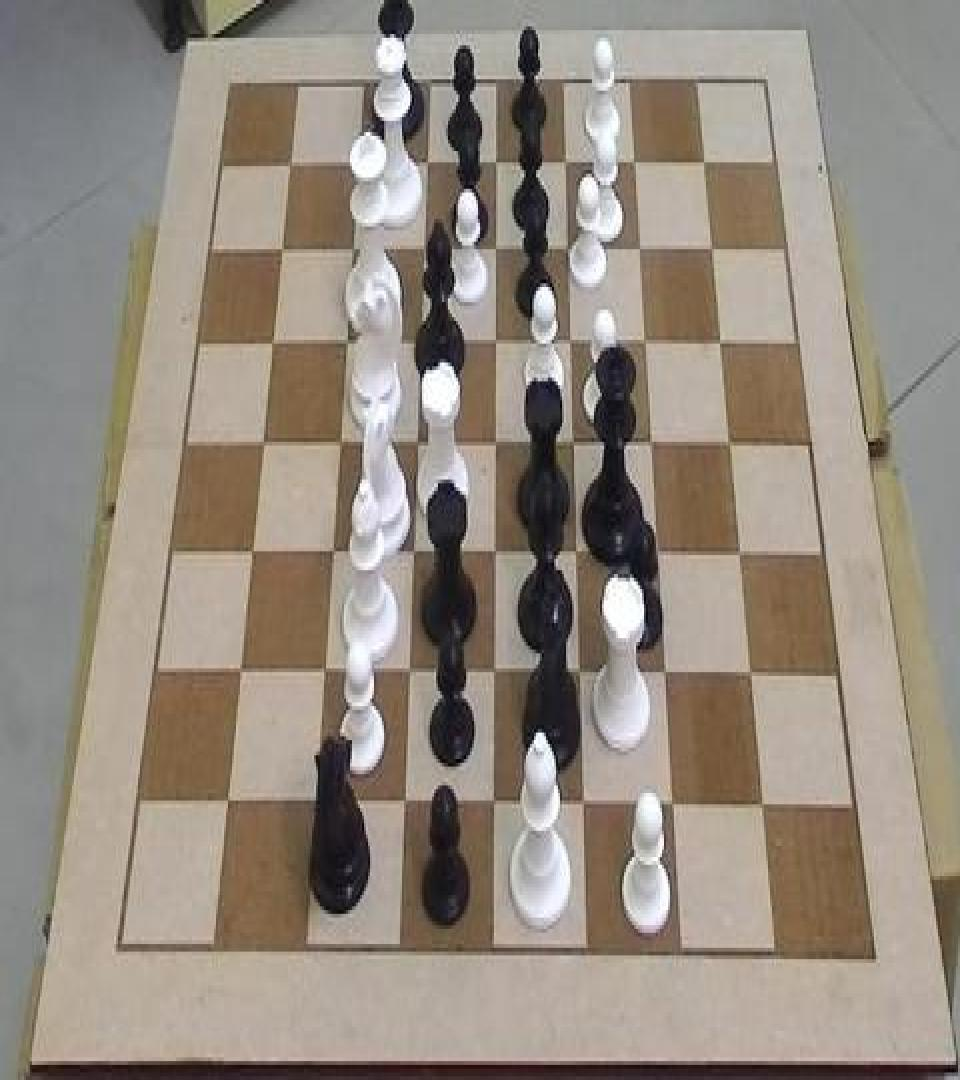xcorner: (692, 142, 712, 180), (622, 142, 642, 180), (553, 144, 573, 182), (484, 144, 504, 182), (415, 144, 435, 182), (346, 146, 366, 184), (278, 146, 298, 184), (700, 228, 720, 266), (628, 228, 648, 266), (556, 228, 576, 266), (484, 228, 504, 266), (412, 228, 432, 266), (341, 230, 361, 268), (270, 230, 290, 268), (709, 321, 729, 359), (634, 321, 654, 359), (558, 321, 578, 359), (483, 321, 503, 359), (409, 321, 429, 359), (335, 321, 355, 359), (261, 322, 281, 360), (719, 423, 739, 461), (640, 423, 660, 461), (561, 423, 581, 461), (483, 423, 503, 461), (406, 423, 426, 461), (328, 421, 348, 459), (251, 421, 271, 459), (729, 532, 749, 570), (647, 532, 667, 570), (565, 532, 585, 570), (483, 532, 503, 570), (402, 530, 422, 568), (321, 530, 341, 568), (241, 530, 261, 568), (741, 655, 761, 693), (654, 653, 674, 691), (568, 653, 588, 691), (483, 652, 503, 690), (398, 652, 418, 690), (313, 650, 333, 688), (229, 650, 249, 688), (753, 787, 773, 825), (663, 786, 683, 824), (572, 786, 592, 824), (482, 784, 502, 822), (393, 782, 413, 820), (305, 782, 325, 820), (217, 780, 237, 818)
